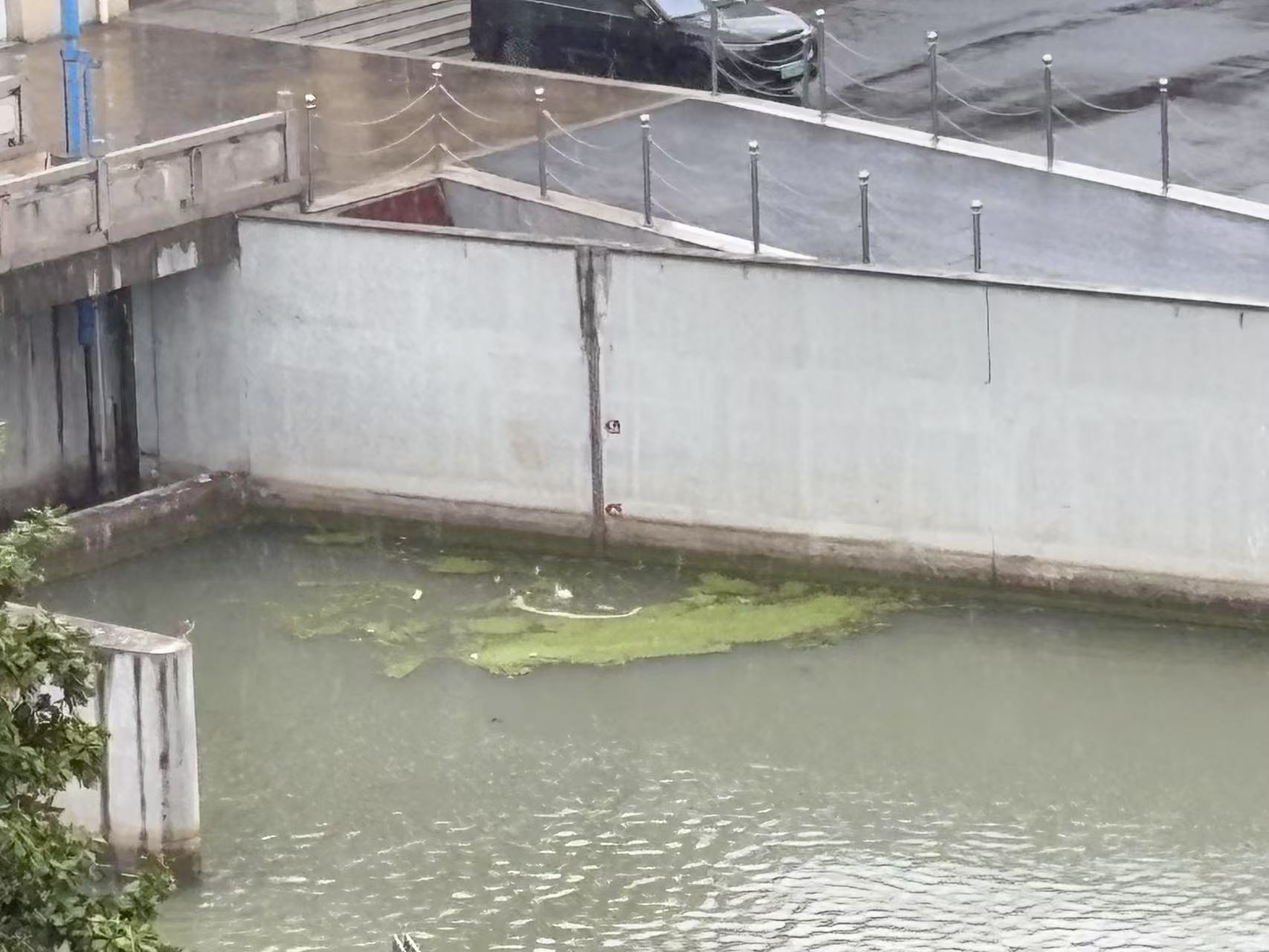Other: (641, 604, 736, 655), (541, 619, 642, 665), (743, 606, 832, 639), (462, 640, 541, 675), (416, 548, 508, 574), (360, 620, 433, 644), (460, 617, 530, 634), (306, 530, 372, 545)
Plastic wastes: (549, 582, 573, 599), (410, 588, 425, 602)
